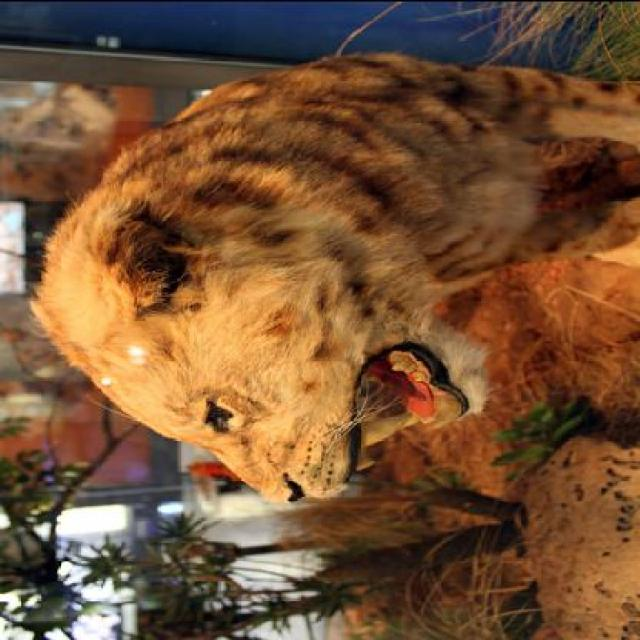Lion: (24, 2, 638, 530)
